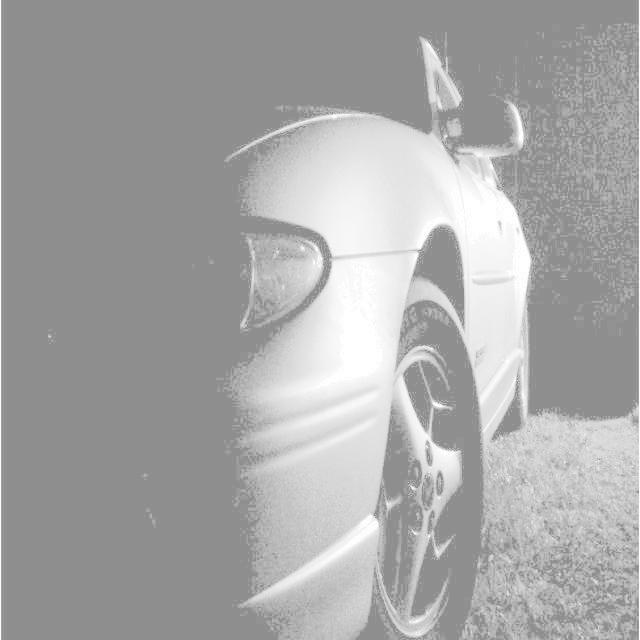Car: (70, 34, 581, 640)
